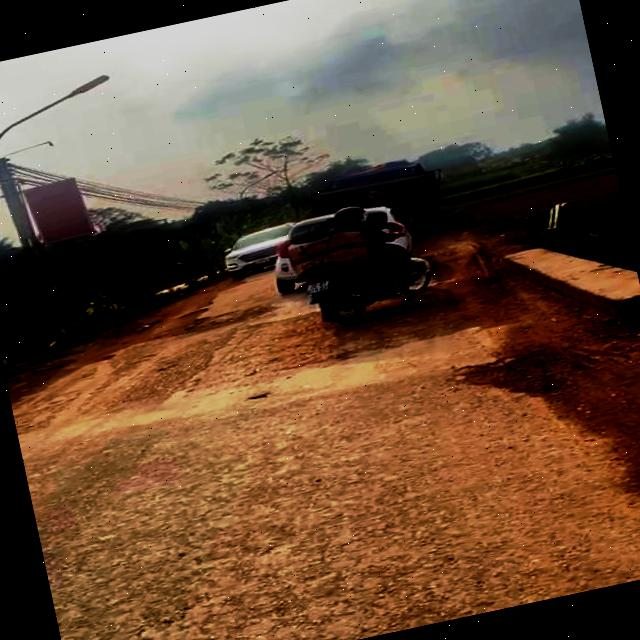pothole: (84, 292, 280, 362), (451, 340, 578, 419)
